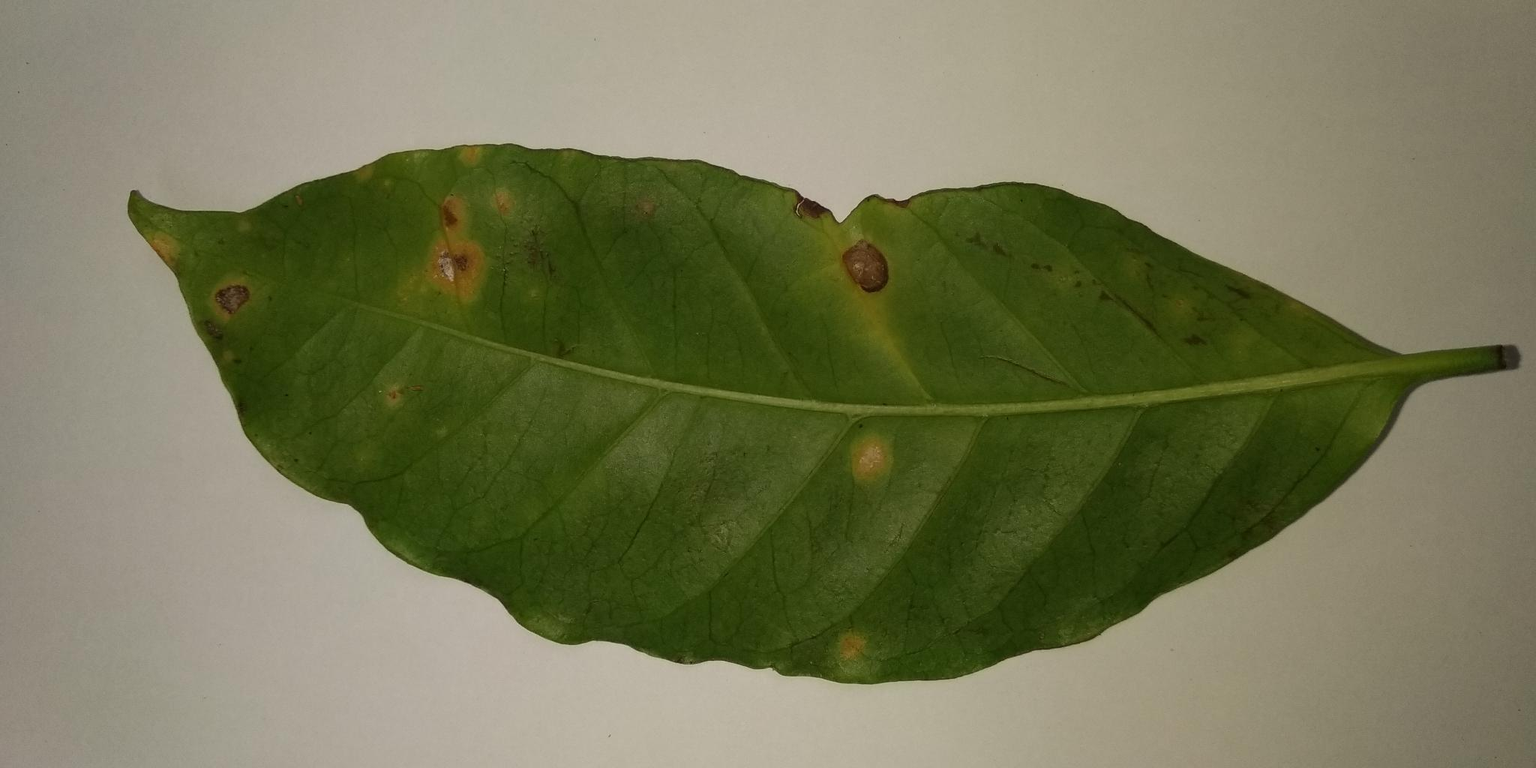Cercospora: (829, 230, 900, 304)
Rust: (837, 429, 899, 495)
